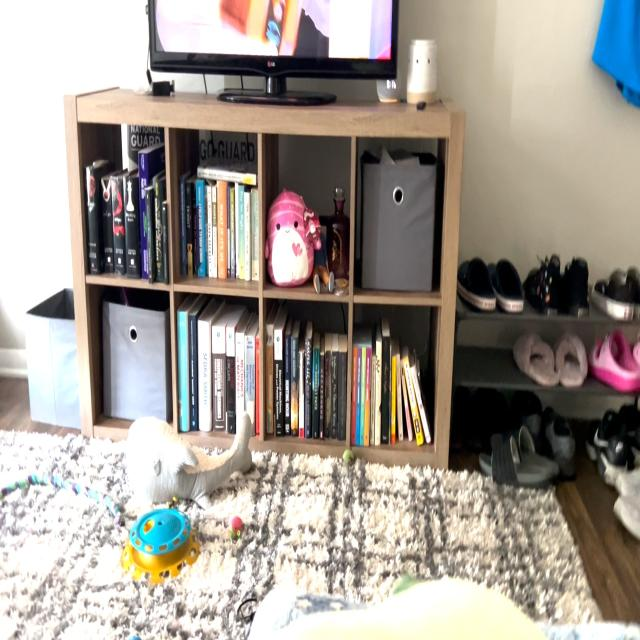drone: (228, 570, 280, 639)
